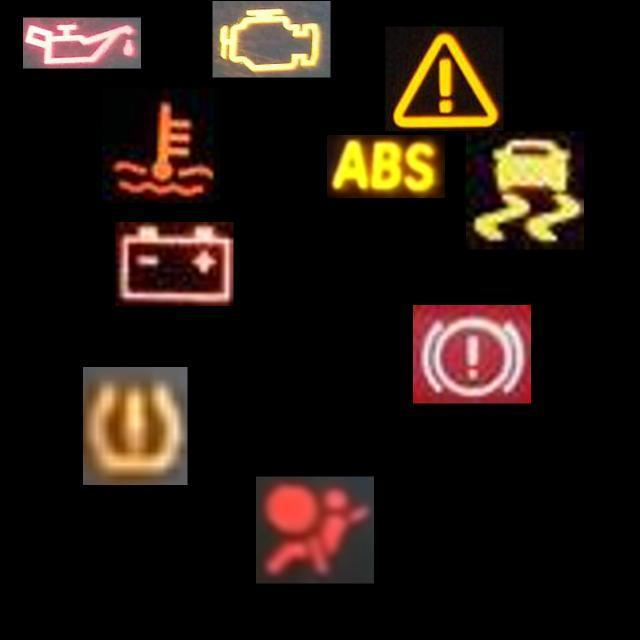Central Warning lamp: (386, 27, 504, 132)
Engine cooling system: (102, 88, 220, 204)
